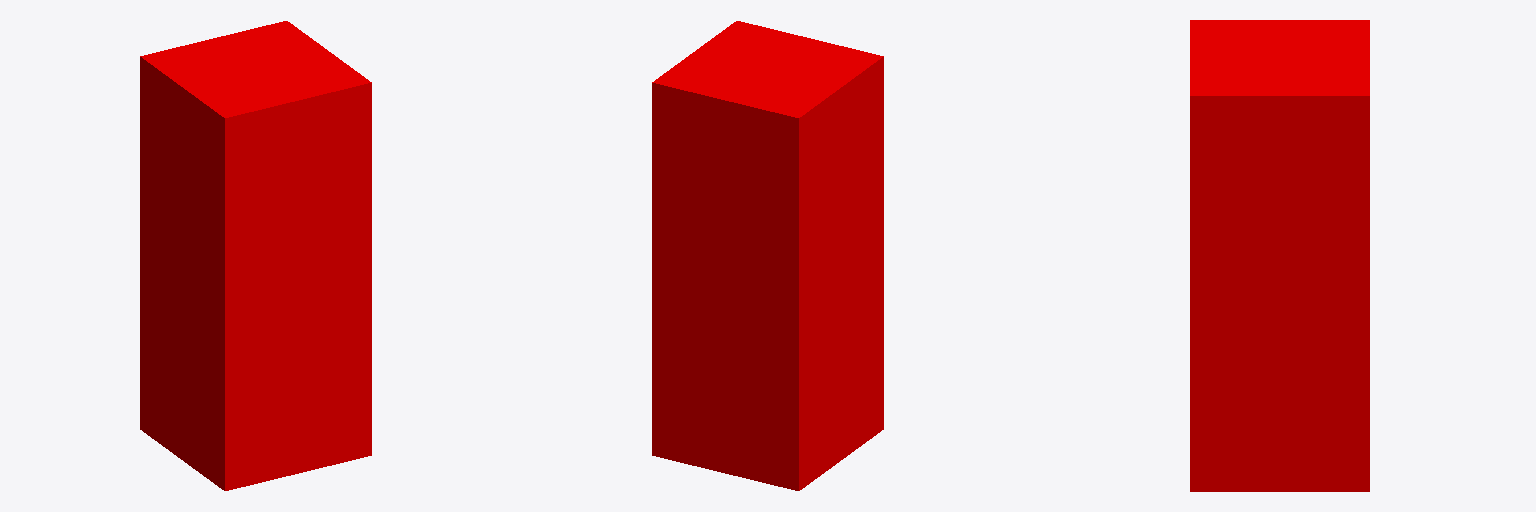
URDF robot description (cuboid_target):
<robot name="cuboid_target">
  <material name="custom_pink"><color rgba="1.0 0.0 0.0 1"/></material>
  <link name="cabinet_middle_plate">
    <inertial>
      <mass value="1.0" />
      <origin xyz="0 0 0.0" /> 
      <inertia  ixx="0.01" ixy="0.0"  ixz="0.0"  iyy="0.01"  iyz="0.0"  izz="0.01" />
    </inertial>
    <visual>
      <origin xyz="0 0 0" rpy="0 0 0" />
      <geometry>
        <mesh filename="cuboid.obj" scale="1.1 1.1 1"/>
      </geometry>
      <material name="custom_pink"/>
    </visual>
    <collision>
      <origin xyz="0 0 0" rpy="0 0 0" />
      <geometry>
        <mesh filename="cuboid.obj" scale="1.1 1.1 1"/>
      </geometry>
    </collision>
  </link>
</robot>

--- What the picture shows (computed from the rendered views, not written in the file) ---
3 views of the same robot in one strip: view 1: azimuth 30°, elevation 25°; view 2: azimuth 150°, elevation 25°; view 3: azimuth 270°, elevation 25° (orthographic).
Robot: cuboid_target — 1 links, 0 joints (none); root link cabinet_middle_plate; default pose: all joints at 0.
Visible links, largest first — view 1: cabinet_middle_plate; view 2: cabinet_middle_plate; view 3: cabinet_middle_plate.
Boxes of the visible links, x1,y1,x2,y2 form: cabinet_middle_plate: (140, 21, 371, 490); cabinet_middle_plate: (652, 21, 883, 490); cabinet_middle_plate: (1190, 20, 1369, 491).
Size in the robot's own frame: 0.033 by 0.033 by 0.08 metres.
1 mesh visuals loaded from 1 distinct referenced files (1 OBJ).